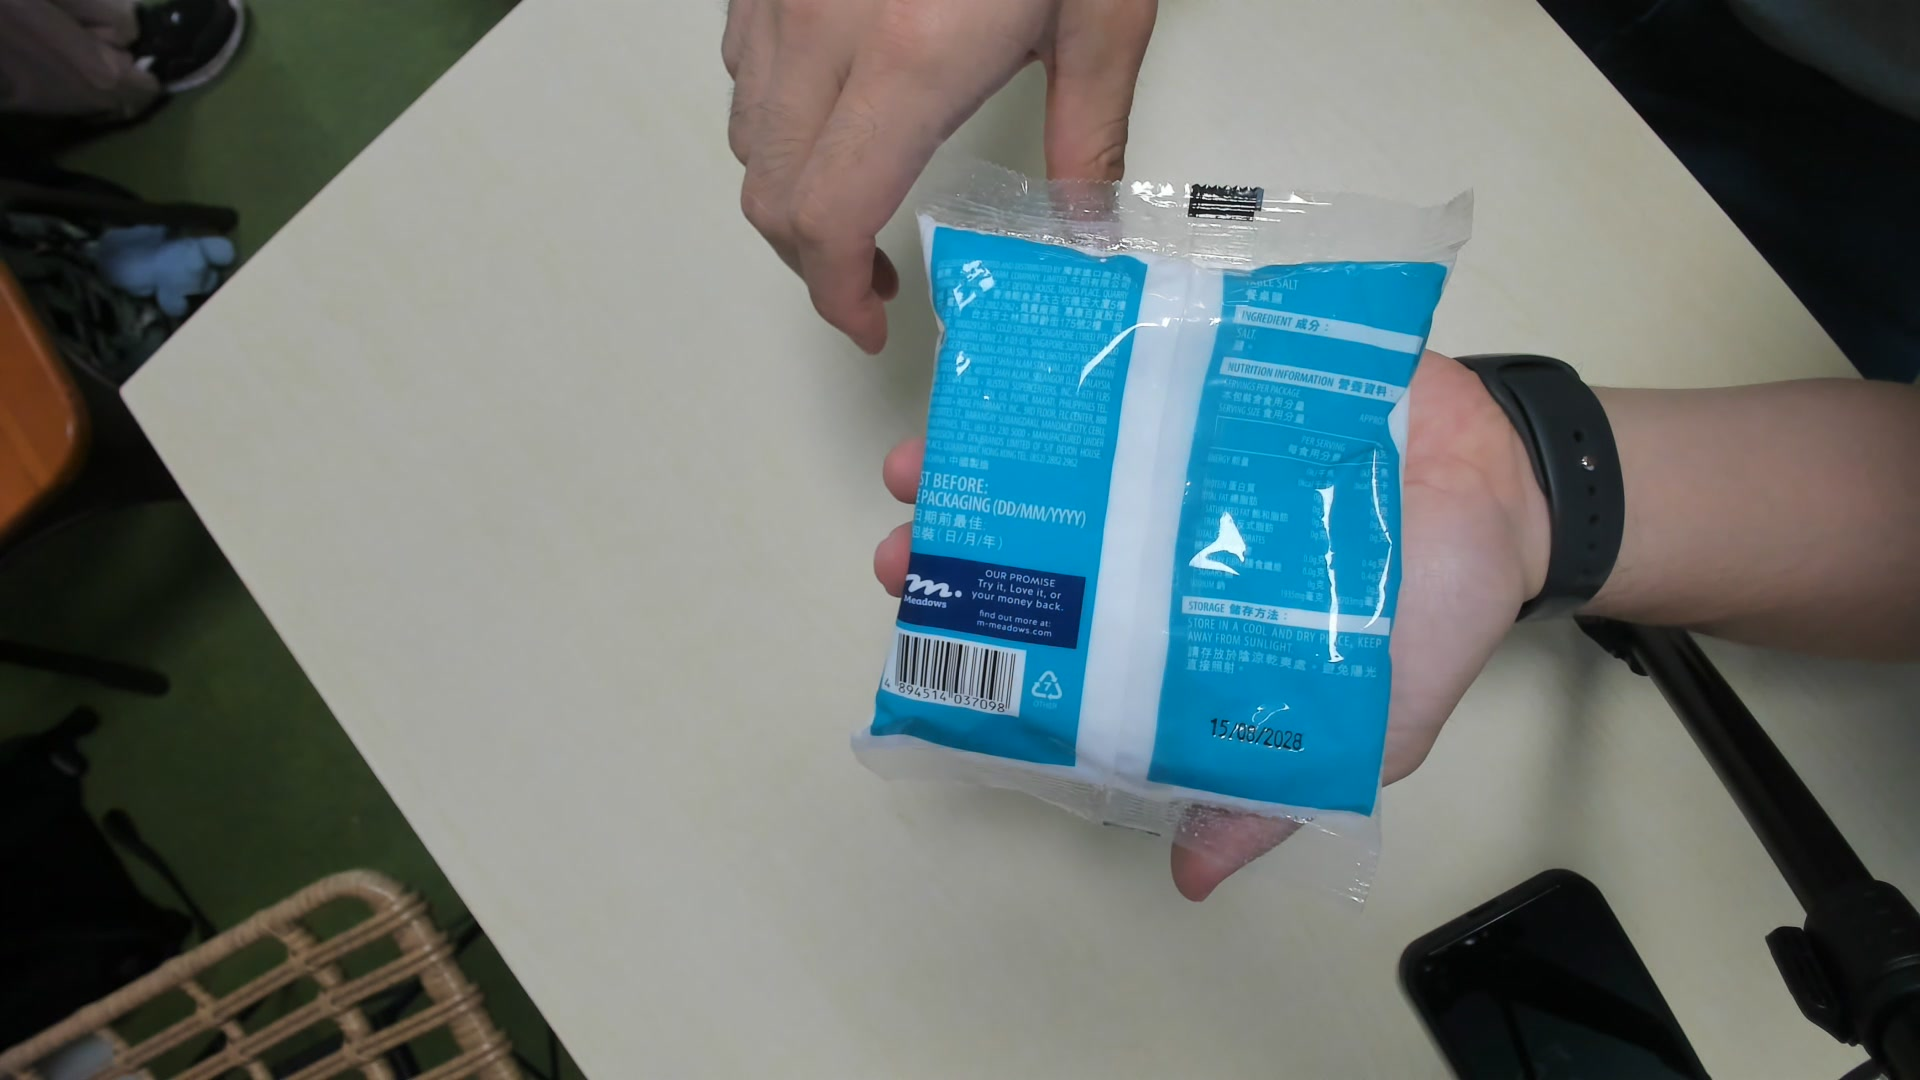Salt_400-499g_NonHalal_NonHealthy: (872, 156, 1462, 844)
